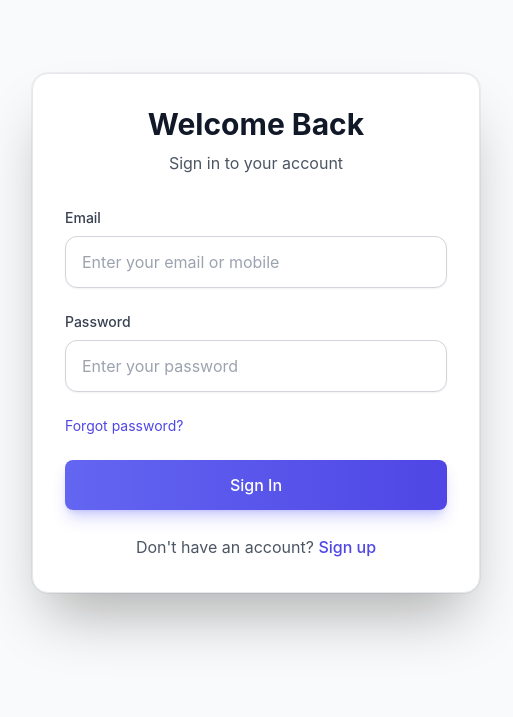
Test: Login Page › should disable submit button while loading
Type "test@example.com" into the field with id "emailOrMobile". click: (256, 262)
box: top-left (65, 236), bottom-right (447, 288)
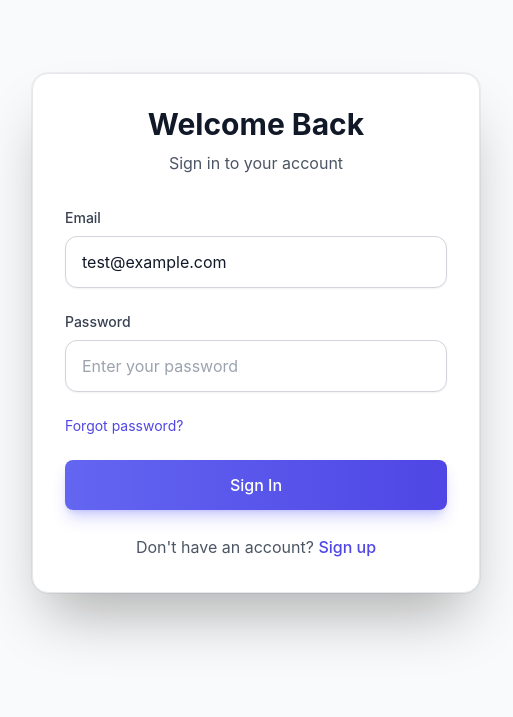
Type "password123" into the password field labelled "Password". click: (256, 366)
box: top-left (65, 340), bottom-right (447, 392)
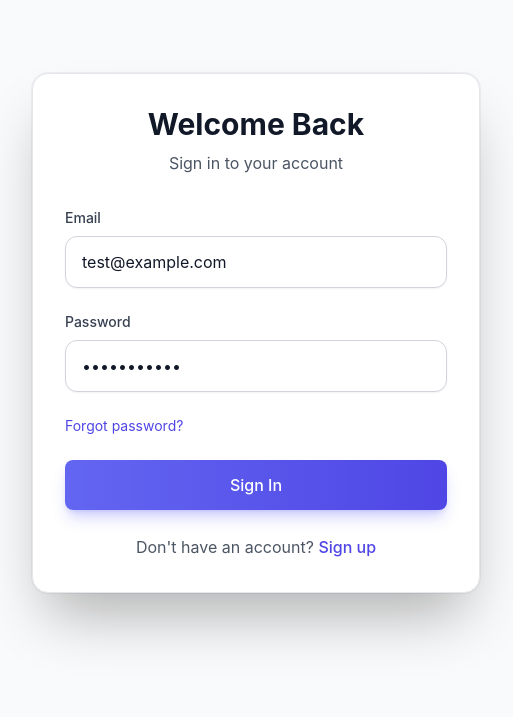
Click the button "Sign In". click: (256, 485)
box: top-left (65, 460), bottom-right (447, 510)
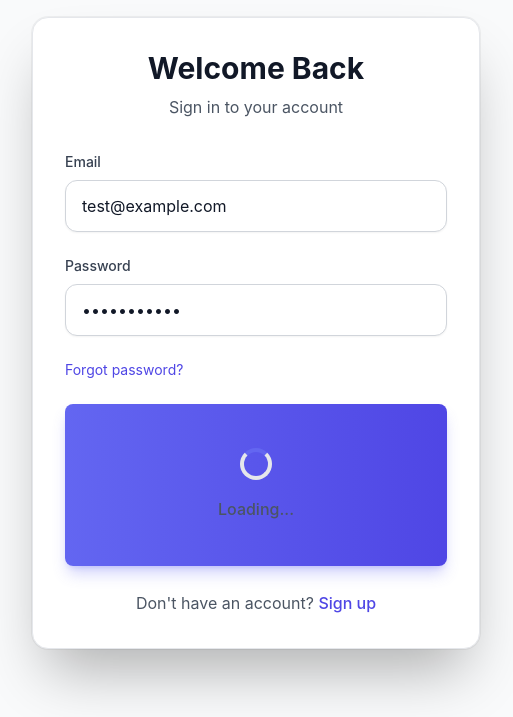
Now the button named "Sign In" is disabled, box top-left (65, 404), bottom-right (447, 566)
